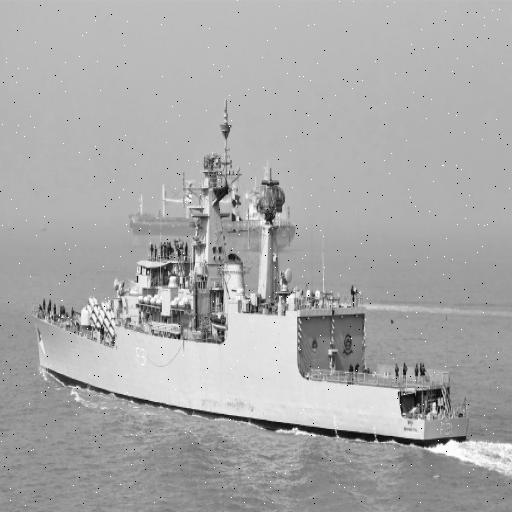Fragata: (30, 91, 473, 453)
